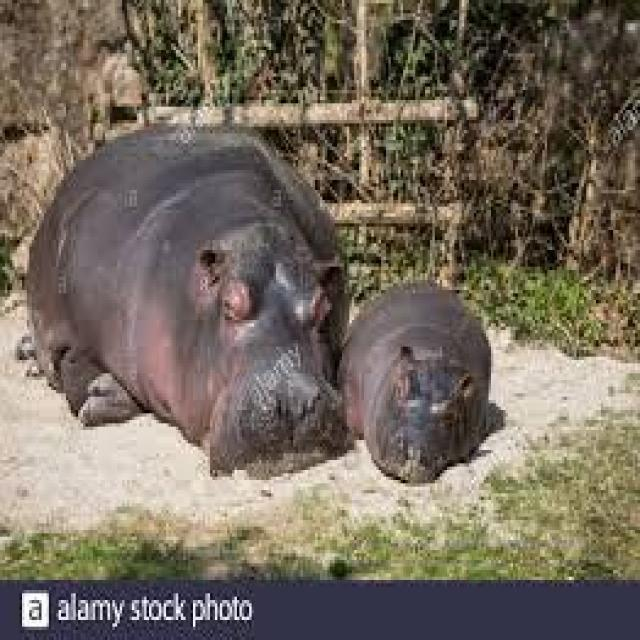Hippopotamus: (21, 123, 348, 508), (345, 282, 495, 486)
